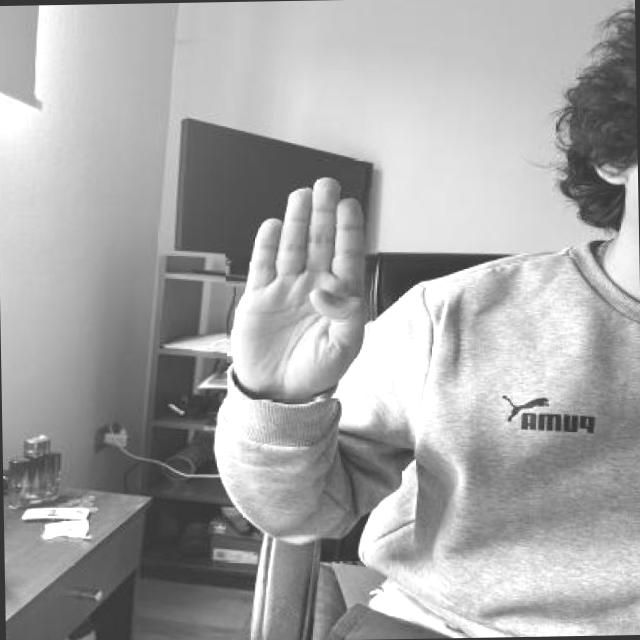B: (224, 171, 378, 400)
